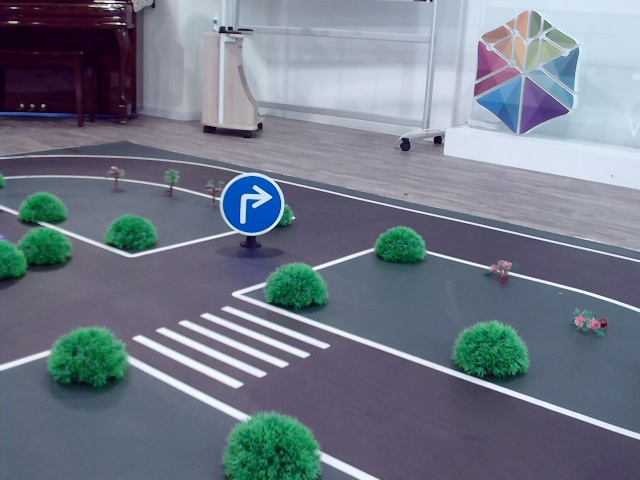turn_right: (235, 180, 270, 223)
